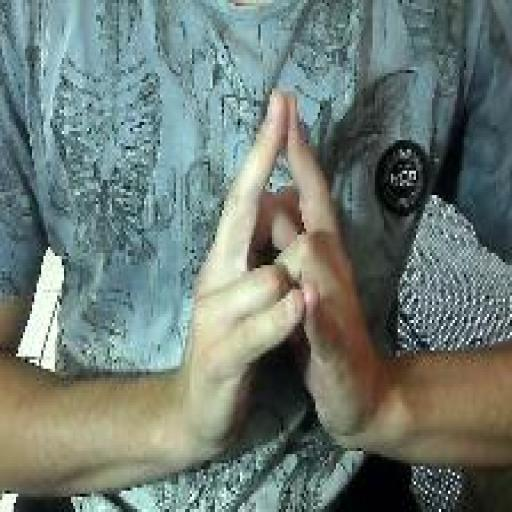Tori -bird-: (181, 82, 377, 457)
